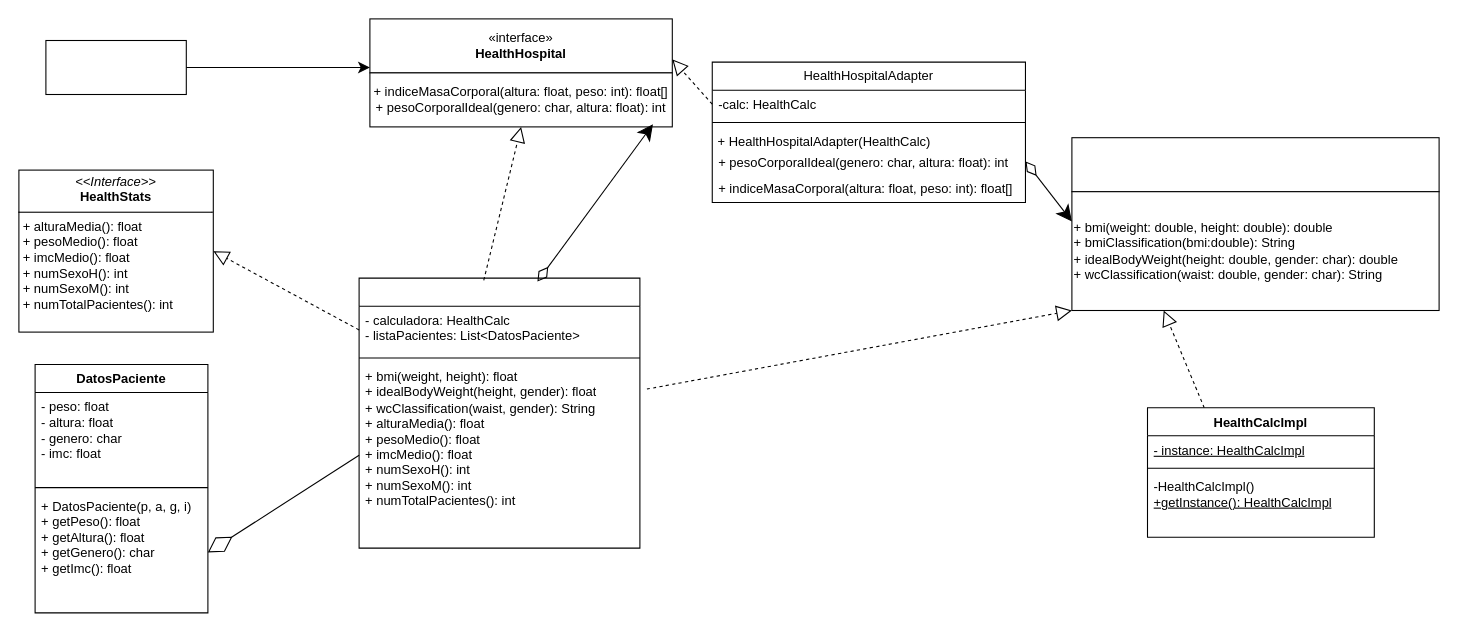
This 1458x635 diagram has some shape labels left out. Here are the shapes that lost their labels. From the top down, the box of each, then its label:
(45, 39, 186, 94): main
(1071, 137, 1439, 192): «interface» HealthCalc
(358, 277, 640, 548): HealthStatsProxy
